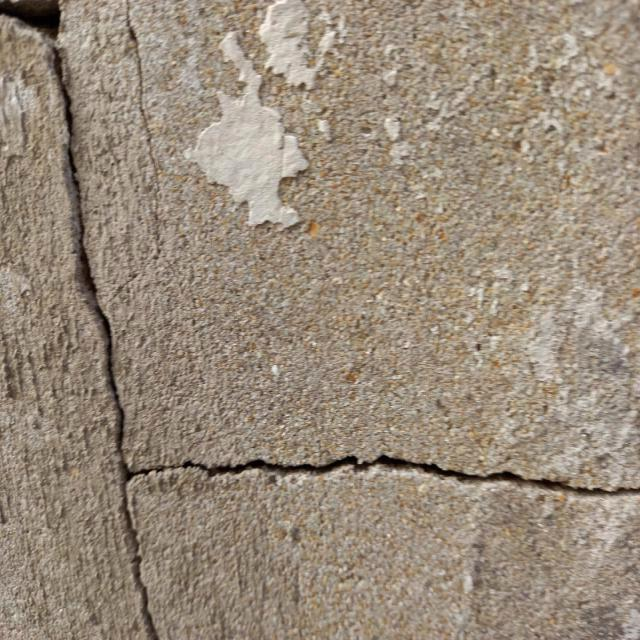SurfaceCrack: (1, 0, 202, 640), (56, 417, 640, 530)
